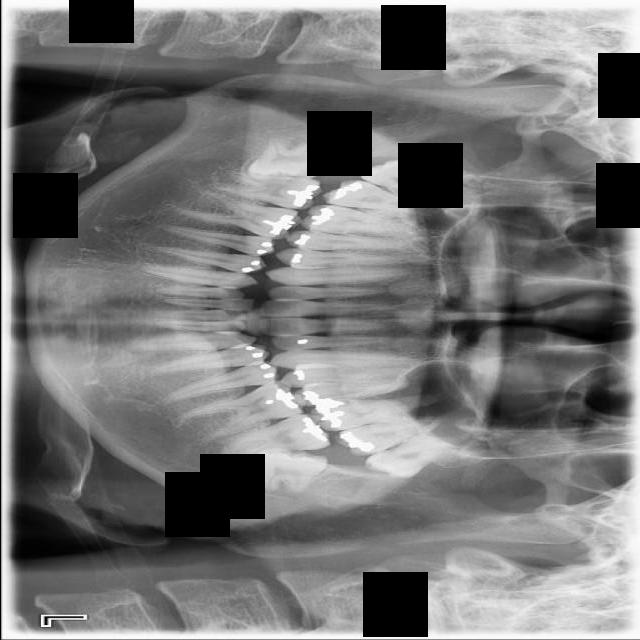3M ESPE Implant: (355, 148, 454, 203)
52: (268, 399, 336, 468), (248, 367, 313, 432), (270, 165, 328, 225), (248, 194, 306, 253), (318, 167, 379, 217), (331, 417, 387, 468), (307, 396, 360, 436), (278, 361, 338, 390), (299, 202, 348, 236), (290, 380, 343, 408), (274, 246, 330, 271), (221, 341, 270, 369), (234, 229, 276, 261), (283, 229, 336, 252), (237, 361, 281, 386), (270, 333, 328, 351), (223, 253, 267, 274)
73: (23, 617, 36, 630)
BioHorizons Implant: (331, 406, 449, 463)
BioLife Implant: (360, 413, 477, 494)
Biomet 3i Implant: (250, 444, 329, 500)
Blue Sky Bio Implant: (223, 411, 331, 460)
Caries: (320, 175, 441, 218)
Implant: (209, 167, 324, 213)
Keystone Dental Implant: (246, 133, 323, 185)
